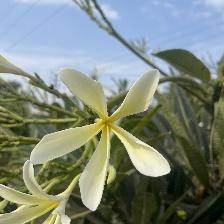champaka: (31, 67, 181, 215)
